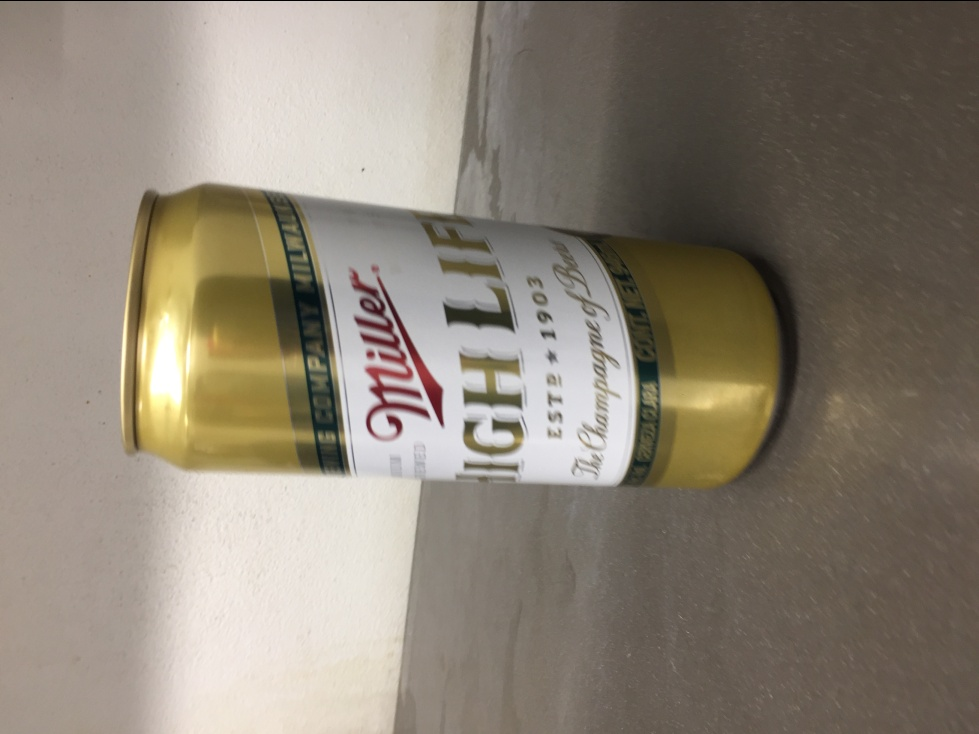miller: (116, 176, 795, 494)
